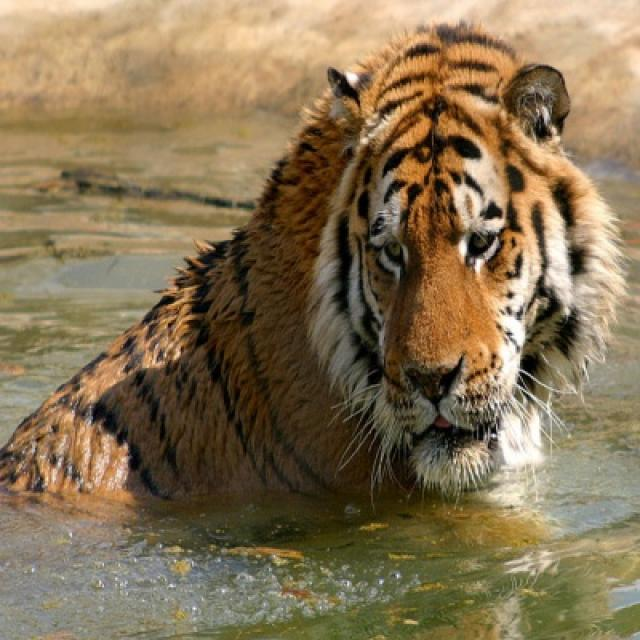Tiger: (6, 36, 613, 496)
